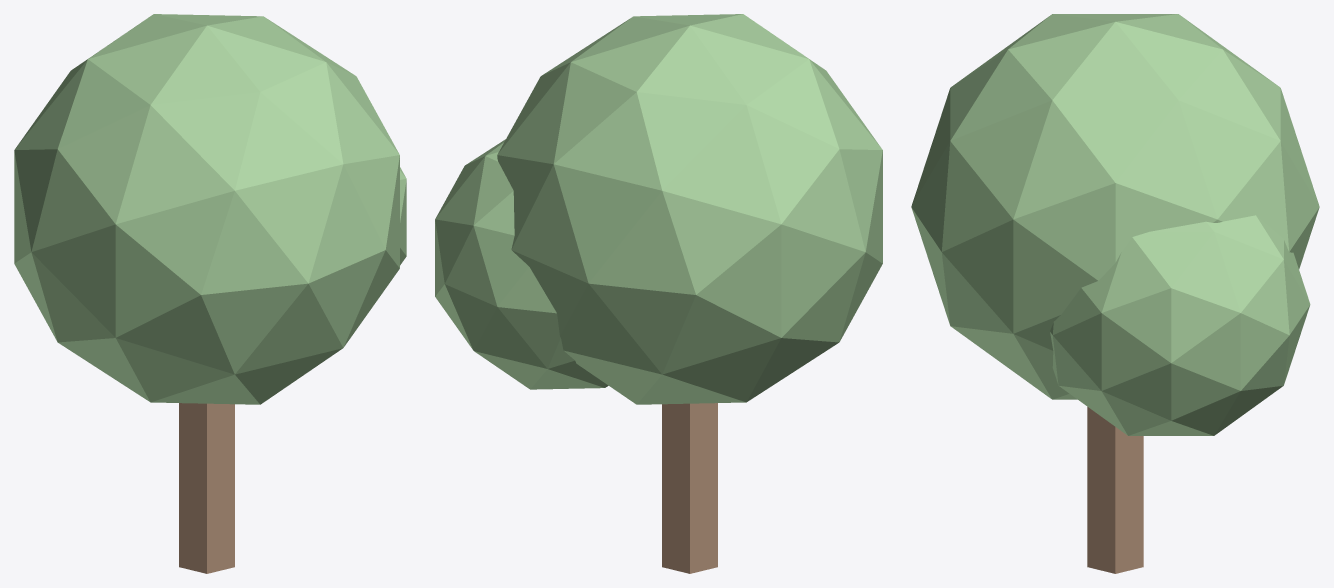
File: tree.glb
The picture shows the model from 3 angles, left to right: view 1: azimuth 30°, elevation 25°; view 2: azimuth 150°, elevation 25°; view 3: azimuth 270°, elevation 25°; orthographic projection.
Parts seen in each view (by area): view 1: tree_leaf, tree_trunk; view 2: tree_leaf, tree_trunk; view 3: tree_leaf, tree_trunk.
Part boxes in pixels (box(x1,y1,x2,y2)): tree_leaf: box(14, 14, 406, 404); tree_trunk: box(179, 403, 234, 573); tree_leaf: box(435, 14, 882, 404); tree_trunk: box(662, 403, 717, 573); tree_leaf: box(911, 14, 1319, 435); tree_trunk: box(1087, 407, 1143, 573).
Size of the model in its own units: 4.9 by 6.4 by 4.4.
